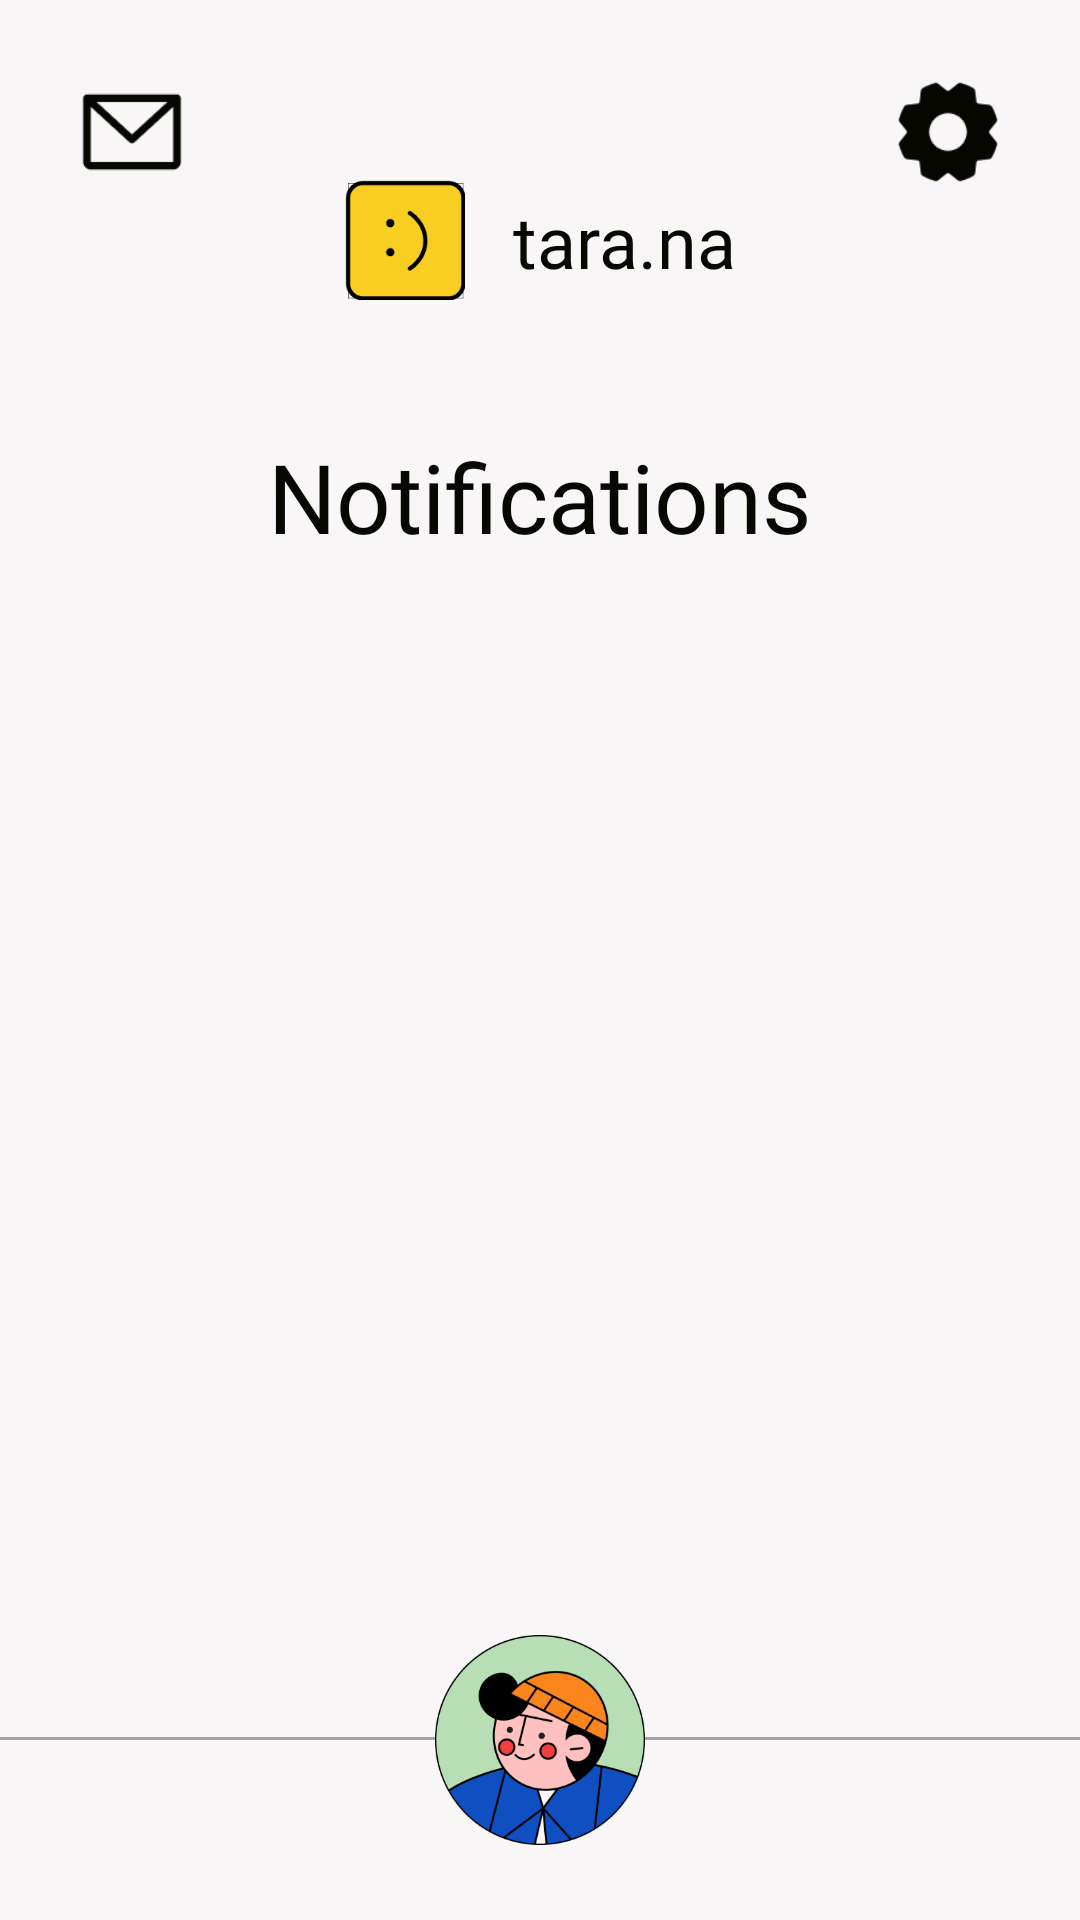

Icon bounding boxes for this 1080 x 1920 phone screenshot, format (x1, y1, x2, y2):
inbox: (82, 93, 182, 171)
profile: (435, 1635, 645, 1845)
settings: (898, 82, 998, 182)
